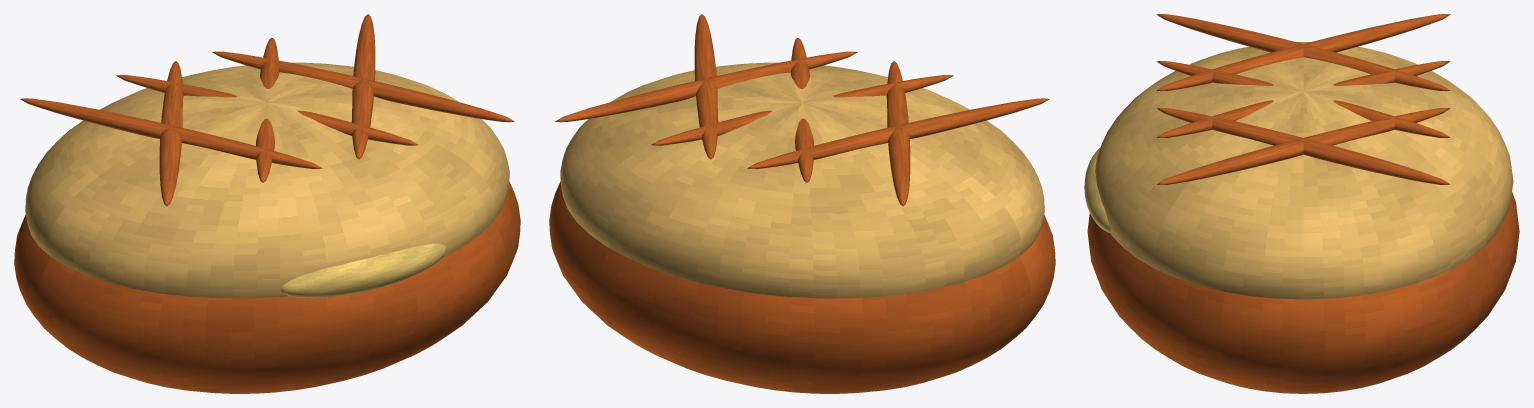
File: bread_cream_melon.glb
The picture shows the model from 3 angles, left to right: view 1: azimuth 30°, elevation 25°; view 2: azimuth 150°, elevation 25°; view 3: azimuth 270°, elevation 25°; orthographic projection.
Parts seen in each view (by area): view 1: メロン皮, 焼きたてパン, カスタードのぞき窓, 格子の焼き溝.003, 格子の焼き溝.005, 格子の焼き溝, 格子の焼き溝.002, 格子の焼き溝.004, 格子の焼き溝.001; view 2: メロン皮, 焼きたてパン, 格子の焼き溝, 格子の焼き溝.002, 格子の焼き溝.003, 格子の焼き溝.005, 格子の焼き溝.001, 格子の焼き溝.004; view 3: メロン皮, 焼きたてパン, 格子の焼き溝.002, 格子の焼き溝.005, 格子の焼き溝.003, 格子の焼き溝, 格子の焼き溝.001, 格子の焼き溝.004, カスタードのぞき窓.
Part boxes in pixels (bbox=[...]): メロン皮: bbox=[25, 62, 509, 298]; 焼きたてパン: bbox=[14, 181, 520, 393]; カスタードのぞき窓: bbox=[281, 243, 446, 298]; 格子の焼き溝.003: bbox=[20, 98, 322, 168]; 格子の焼き溝.005: bbox=[212, 51, 514, 122]; 格子の焼き溝: bbox=[159, 61, 183, 206]; 格子の焼き溝.002: bbox=[351, 14, 375, 159]; 格子の焼き溝.004: bbox=[116, 75, 418, 145]; 格子の焼き溝.001: bbox=[256, 38, 279, 182]; メロン皮: bbox=[560, 62, 1044, 298]; 焼きたてパン: bbox=[549, 181, 1055, 393]; 格子の焼き溝: bbox=[747, 98, 1049, 168]; 格子の焼き溝.002: bbox=[555, 51, 857, 122]; 格子の焼き溝.003: bbox=[886, 61, 910, 206]; 格子の焼き溝.005: bbox=[694, 14, 718, 159]; 格子の焼き溝.001: bbox=[651, 75, 953, 145]; 格子の焼き溝.004: bbox=[790, 38, 813, 182]; メロン皮: bbox=[1095, 42, 1513, 299]; 焼きたてパン: bbox=[1087, 192, 1519, 393]; 格子の焼き溝.002: bbox=[1156, 108, 1450, 184]; 格子の焼き溝.005: bbox=[1157, 108, 1450, 184]; 格子の焼き溝.003: bbox=[1156, 14, 1450, 91]; 格子の焼き溝: bbox=[1156, 14, 1450, 91]; 格子の焼き溝.001: bbox=[1156, 61, 1450, 138]; 格子の焼き溝.004: bbox=[1157, 61, 1450, 138]; カスタードのぞき窓: bbox=[1084, 148, 1110, 233].
Bounding box in the file's own units: 0.86 × 0.46 × 0.705.
Materials: 3 (3 with a texture image).
